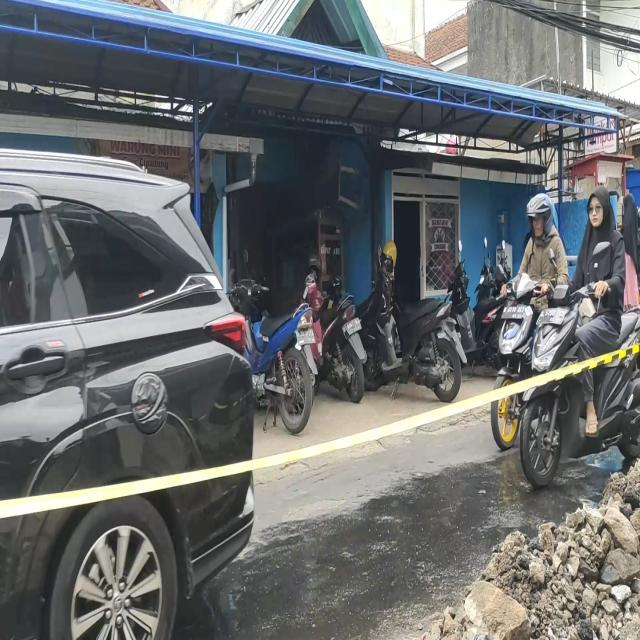helmet: (526, 196, 551, 241)
no-helmet: (587, 188, 610, 227)
